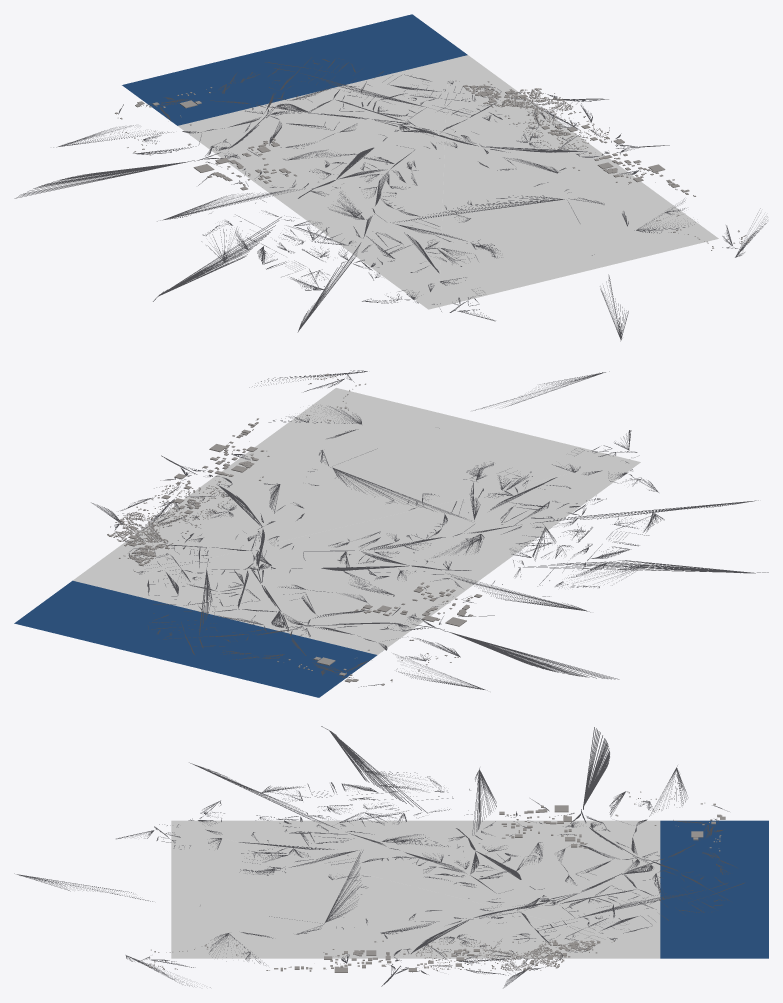
The model's file is PLY_PlymouthLevel.fbx.
3 renders of one model, top to bottom at view 1: azimuth 30°, elevation 25°; view 2: azimuth 150°, elevation 25°; view 3: azimuth 270°, elevation 25°, orthographic. The views are drawn at different scales.
Visible parts, largest first — view 1: PLY_Ground, PLY_Roads, PLY_Water, PLY_Buildings; view 2: PLY_Ground, PLY_Roads, PLY_Water, PLY_Buildings; view 3: PLY_Ground, PLY_Roads, PLY_Water, PLY_Buildings.
Boxes of the visible parts, box(x1,y1,x2,y2) form: PLY_Ground: box(178, 55, 718, 309); PLY_Roads: box(14, 57, 767, 341); PLY_Water: box(122, 14, 467, 125); PLY_Buildings: box(110, 80, 749, 250); PLY_Ground: box(73, 388, 640, 654); PLY_Roads: box(91, 370, 768, 690); PLY_Water: box(14, 580, 377, 697); PLY_Buildings: box(107, 373, 482, 685); PLY_Ground: box(171, 820, 660, 958); PLY_Roads: box(14, 726, 744, 988); PLY_Water: box(660, 820, 768, 958); PLY_Buildings: box(149, 791, 725, 972).
Size of the model in its own units: 11450 by 18.3 by 13896.
